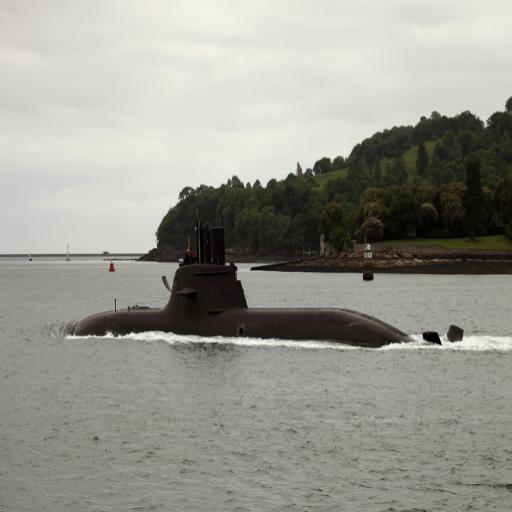submarine: (77, 261, 464, 343)
